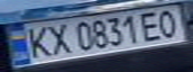0: (72, 19, 93, 52)
1: (121, 12, 142, 45)
3: (106, 16, 127, 47)
8: (90, 17, 109, 50)
E: (136, 8, 166, 42)
K: (21, 24, 54, 60)
O: (151, 7, 187, 38)
X: (42, 21, 72, 56)
